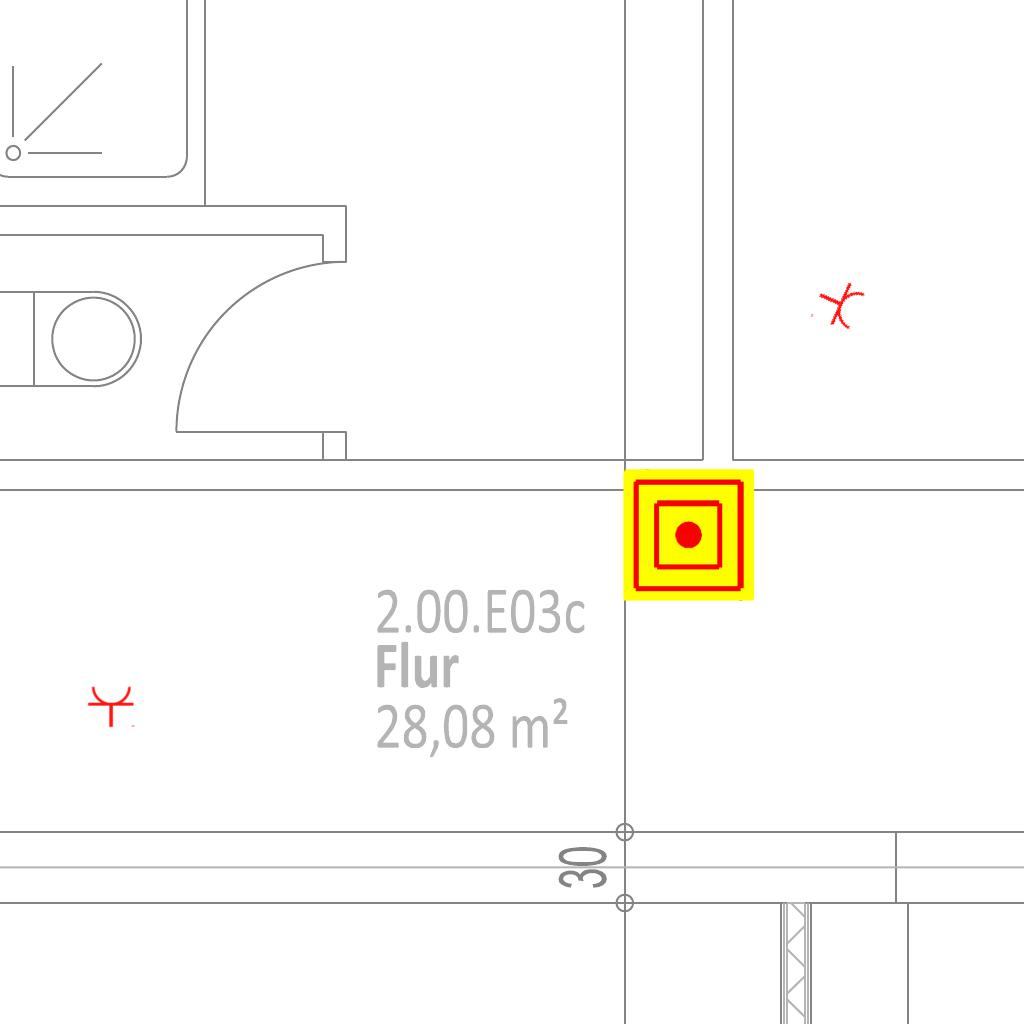NAM-Nichtautomatischer_Melder: (623, 469, 755, 601)
Schukosteckdose_einfach: (808, 272, 869, 336), (87, 685, 137, 728)
